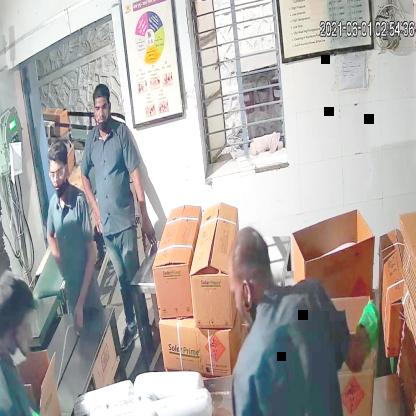goggles: (44, 160, 72, 190)
